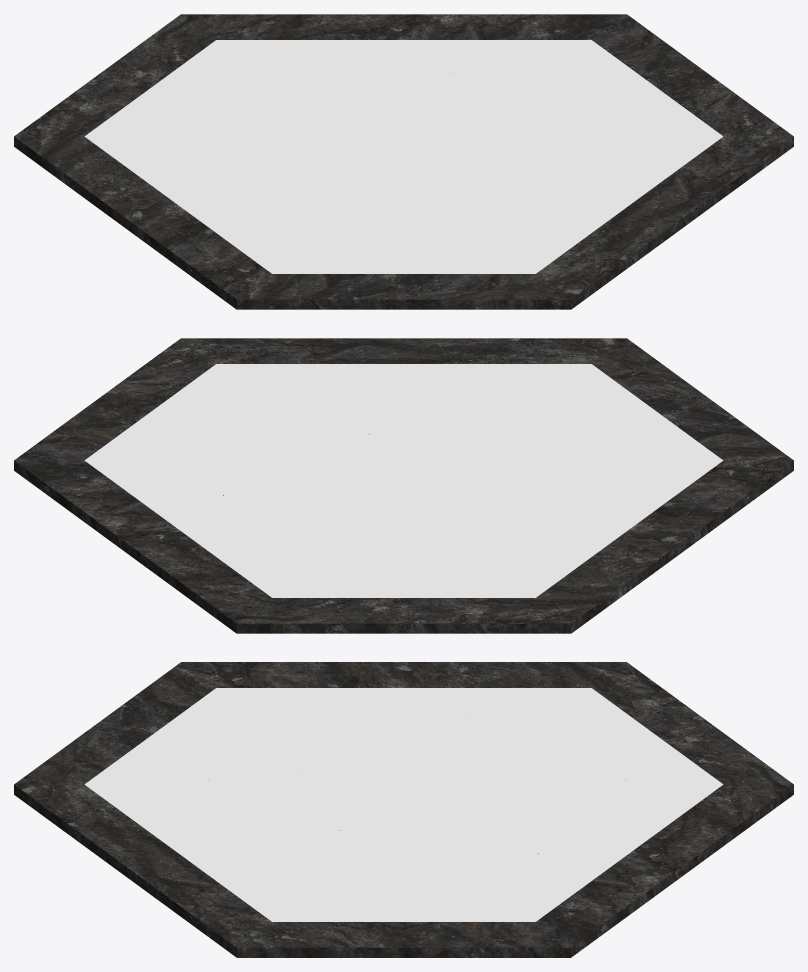
File: pm-control-point.glb
The picture shows the model from 3 angles, top to bottom: view 1: azimuth 30°, elevation 25°; view 2: azimuth 150°, elevation 25°; view 3: azimuth 270°, elevation 25°; orthographic projection.
Parts seen in each view (by area): view 1: ControlPoint_Art; view 2: ControlPoint_Art; view 3: ControlPoint_Art.
Part boxes in pixels (x1,y1,x2,y2): ControlPoint_Art: (14,14,793,309); ControlPoint_Art: (14,338,793,633); ControlPoint_Art: (14,662,793,957).
Bounding box in the file's own units: 4.64 × 0.0772 × 5.36.
Materials: 2 (2 with a texture image).
